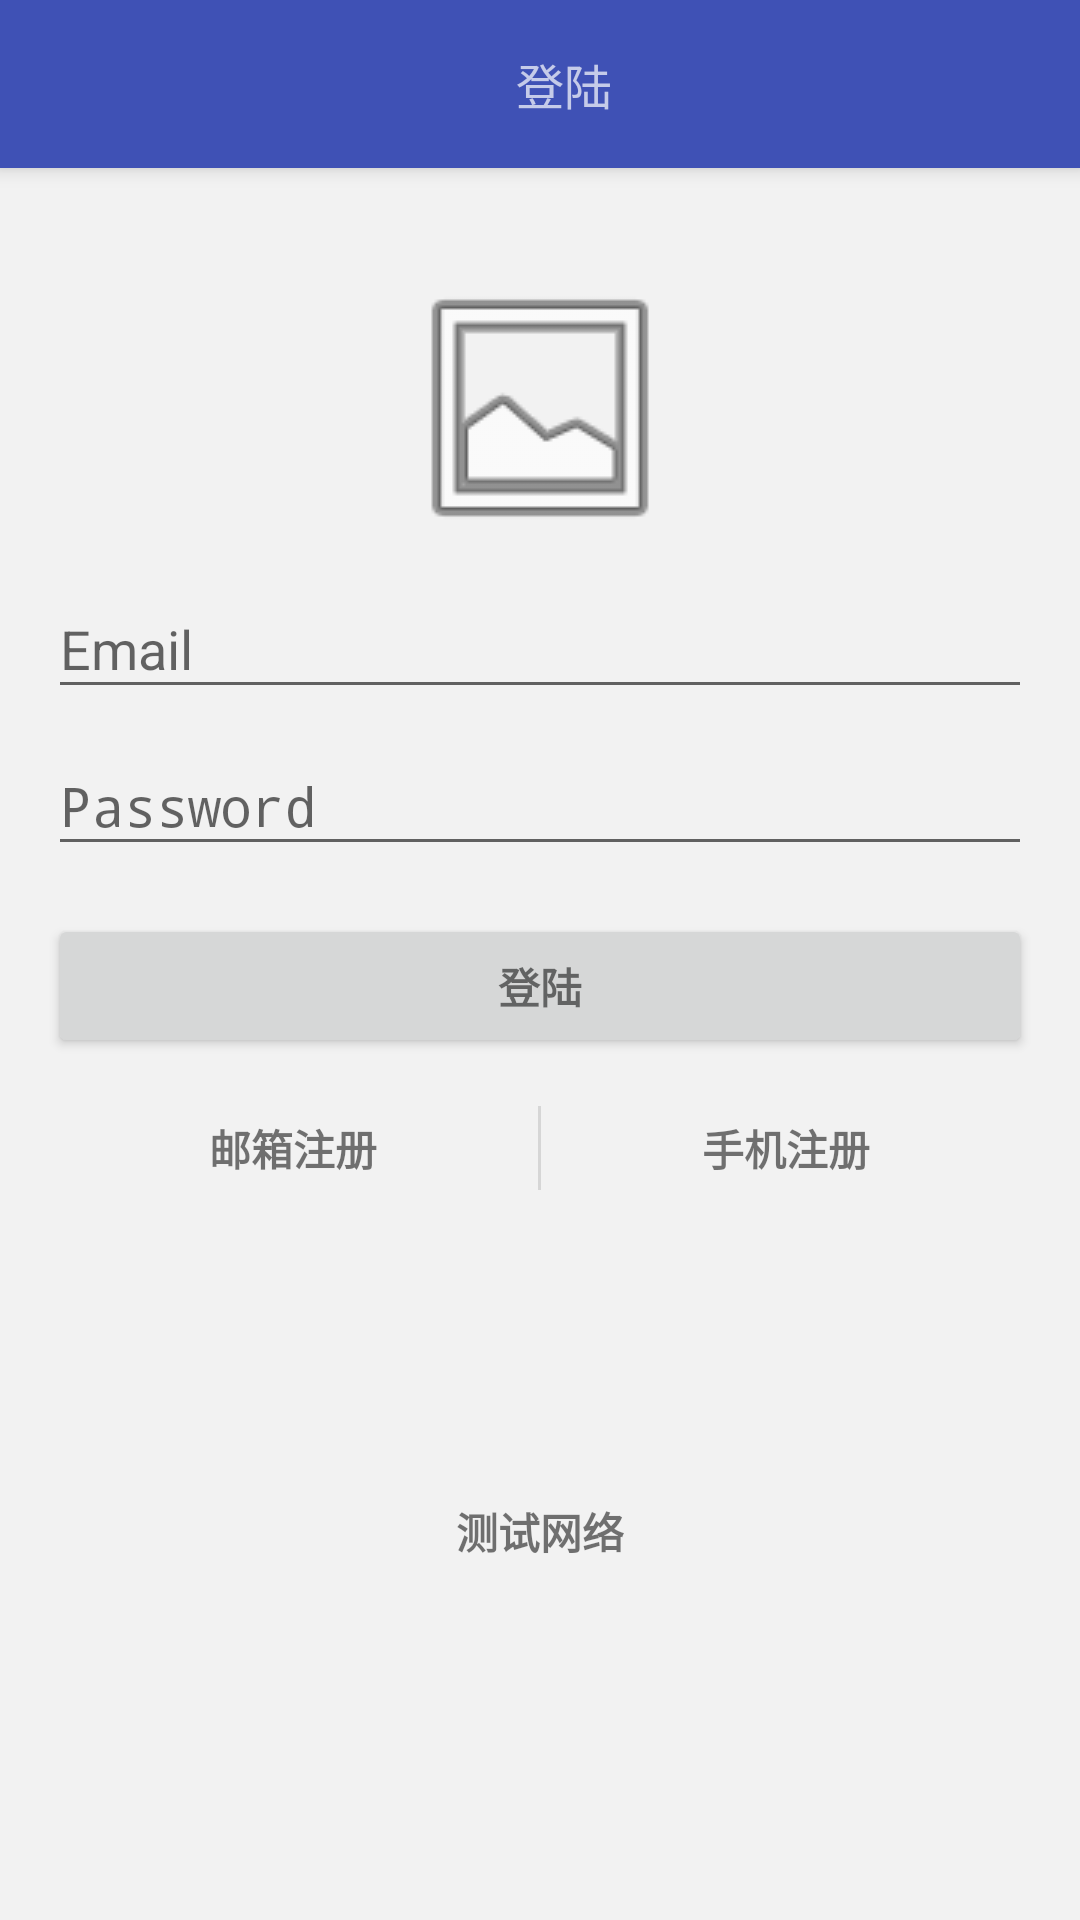

Icons on this 1080 x 1920 Android screen, each with its box as bbox=[x1, y1, x2, y2]:
gallery: bbox=[431, 299, 649, 517]
